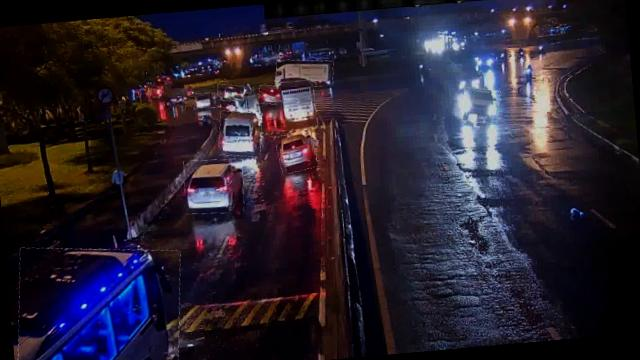Bus: (9, 238, 187, 360), (217, 109, 264, 158)
Car: (182, 158, 245, 217), (276, 130, 318, 174), (461, 86, 502, 125), (258, 84, 284, 106), (216, 83, 244, 102), (194, 92, 215, 110)
Truck: (275, 56, 334, 90), (278, 80, 318, 130)
